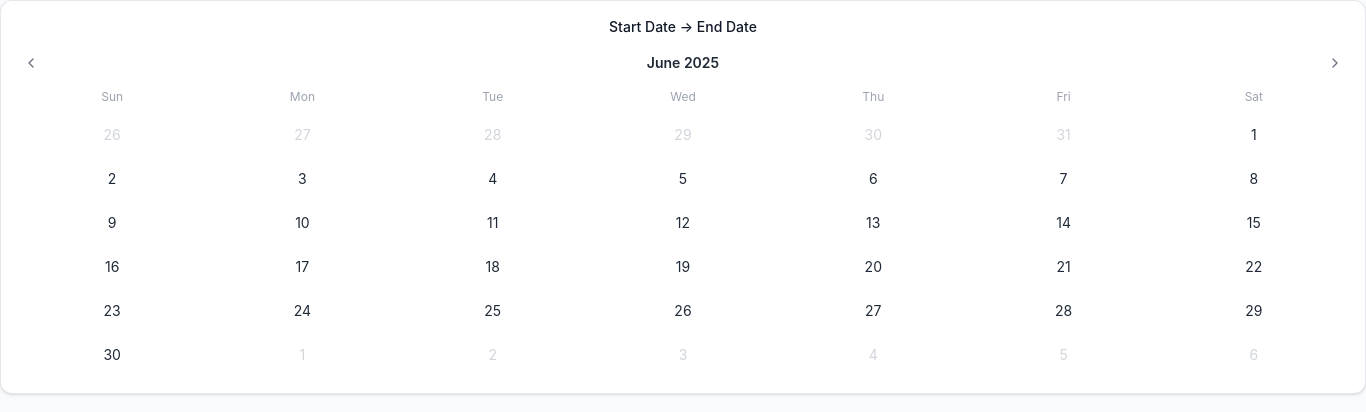
Test case: DateRangePicker › displays the selected range in the header
The width and height of the screenshot is (1366, 412).
Click the button "10" at (302, 223), box [207, 201, 398, 245]
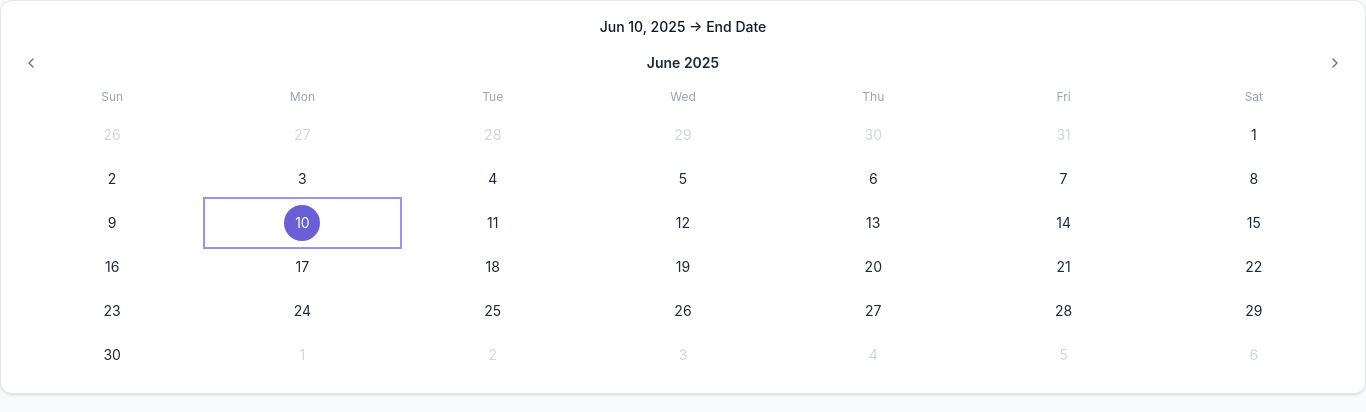
Click the button "20" at (873, 267), box [778, 245, 968, 289]
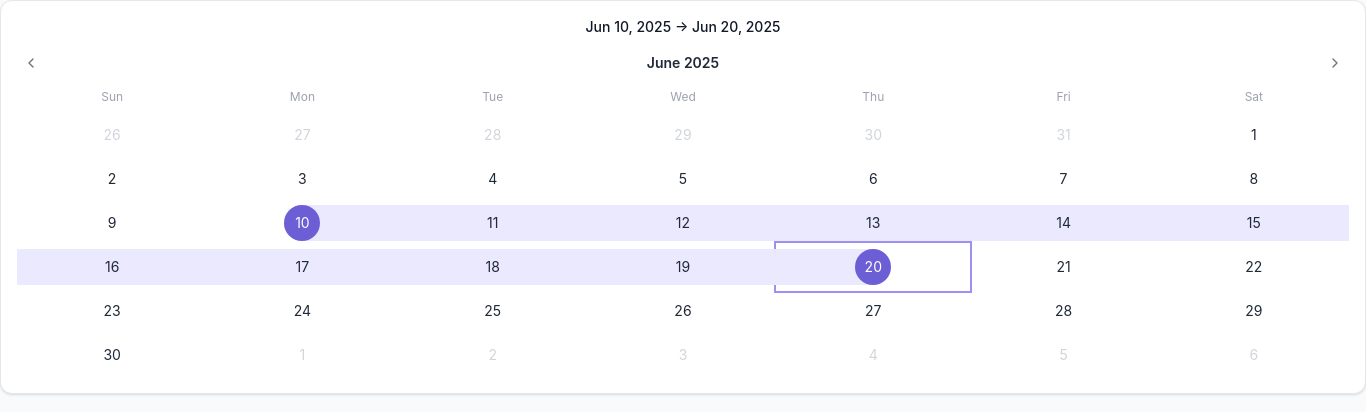
Expected: the text "Jun 10, 2025 → Jun 20, 2025" is shown, [586, 18, 780, 35]
